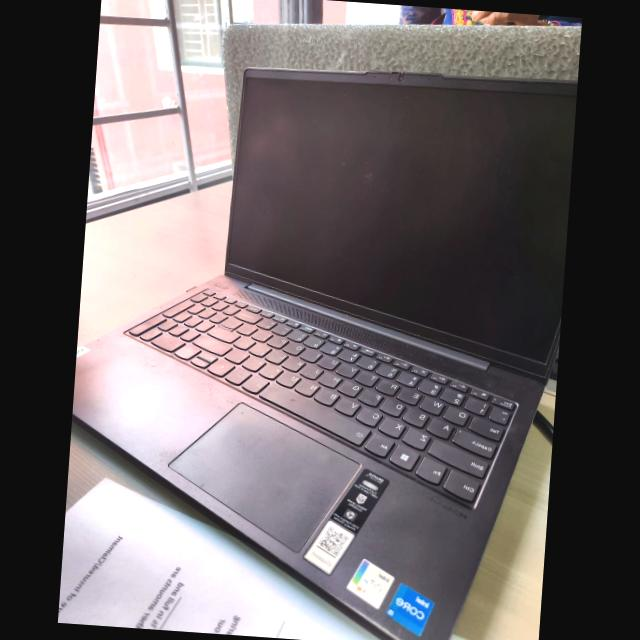laptop: (58, 35, 569, 640)
